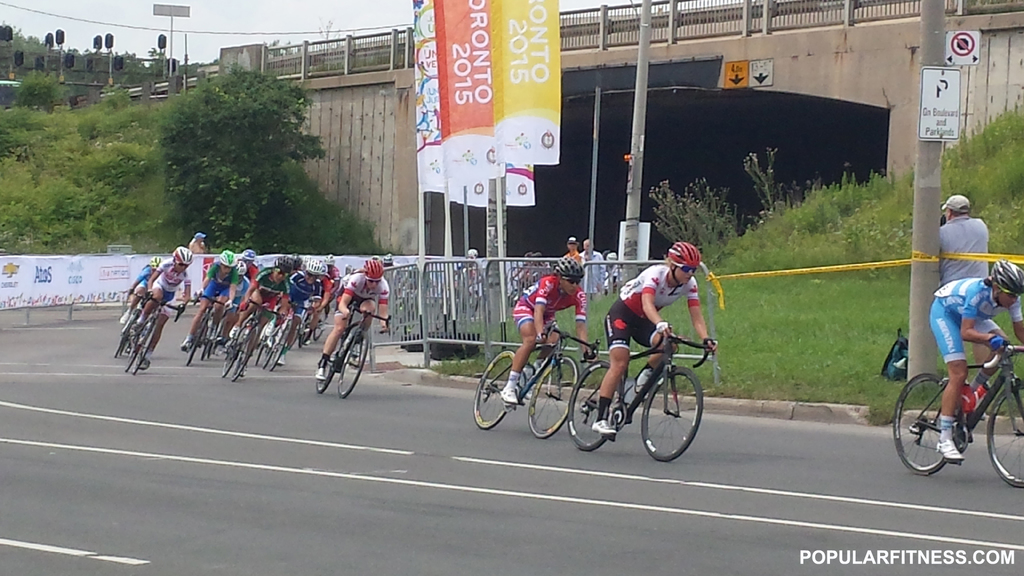Bike_toward: (570, 338, 710, 464), (474, 330, 600, 445), (314, 307, 392, 398), (126, 290, 189, 377)
